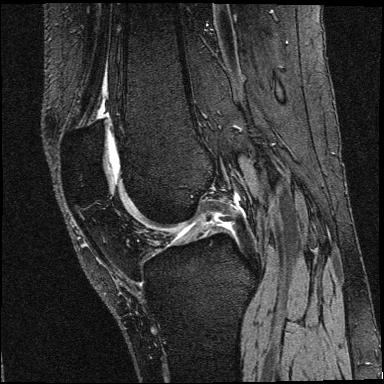SagKneeJointArea: (59, 118, 262, 301)
